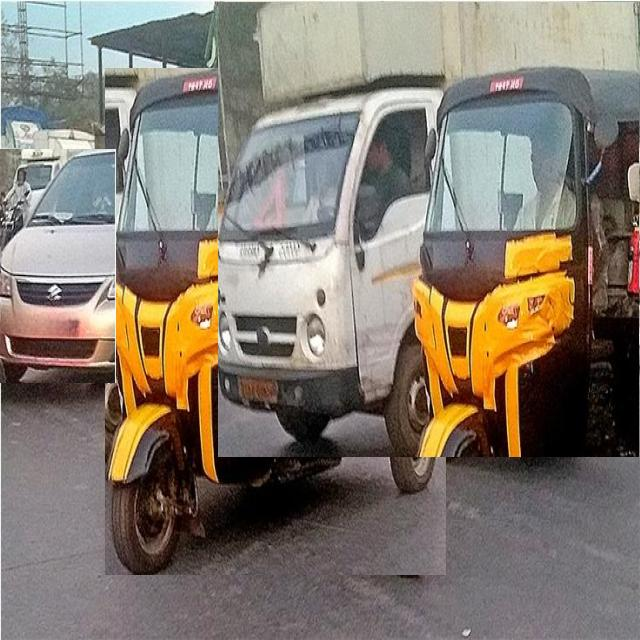autorickshaw: (105, 68, 446, 575)
car: (0, 149, 116, 383)
truck: (219, 2, 639, 457)
